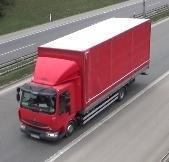truck: (15, 16, 150, 143)
